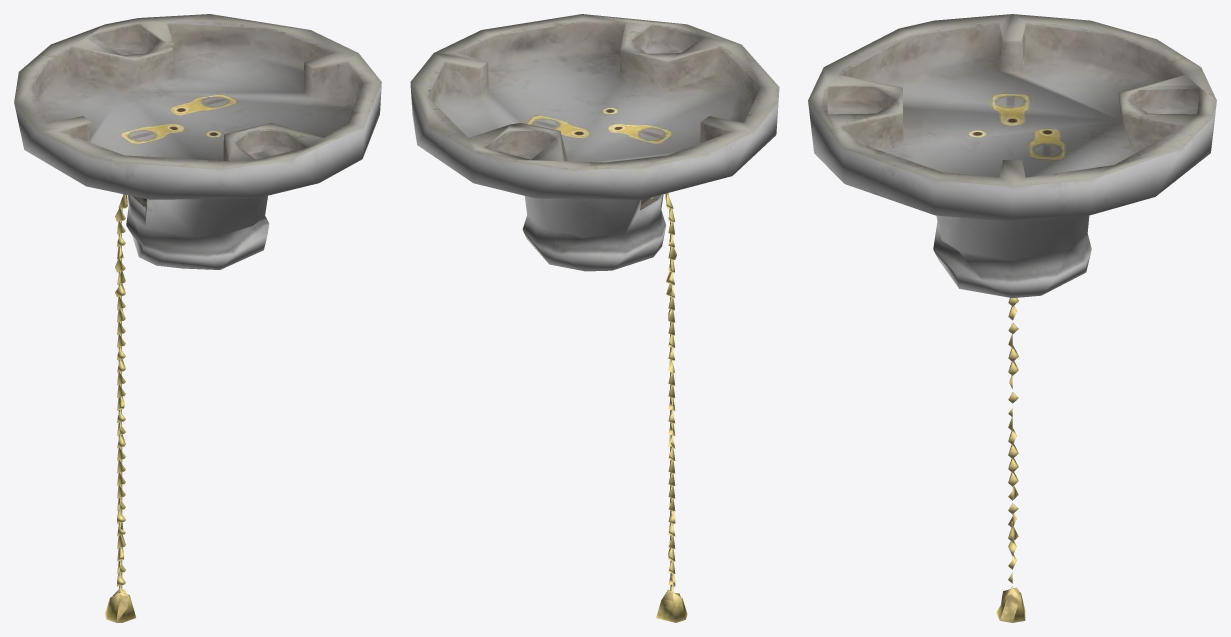
File: pull_chain_light_socket.glb
3 views of the same model, side by side, from view 1: azimuth 30°, elevation 25°; view 2: azimuth 150°, elevation 25°; view 3: azimuth 270°, elevation 25° (orthographic). The views are drawn at different scales.
Visible parts, largest first — view 1: pull_chain_light_socket; view 2: pull_chain_light_socket; view 3: pull_chain_light_socket.
Part boxes in pixels (left/top/right/bottom): pull_chain_light_socket: left=14, top=14, right=381, bottom=622; pull_chain_light_socket: left=410, top=14, right=779, bottom=622; pull_chain_light_socket: left=808, top=14, right=1216, bottom=622.
Size of the model in its own units: 0.11 by 0.1653 by 0.11.
1 material, 1 textured.
